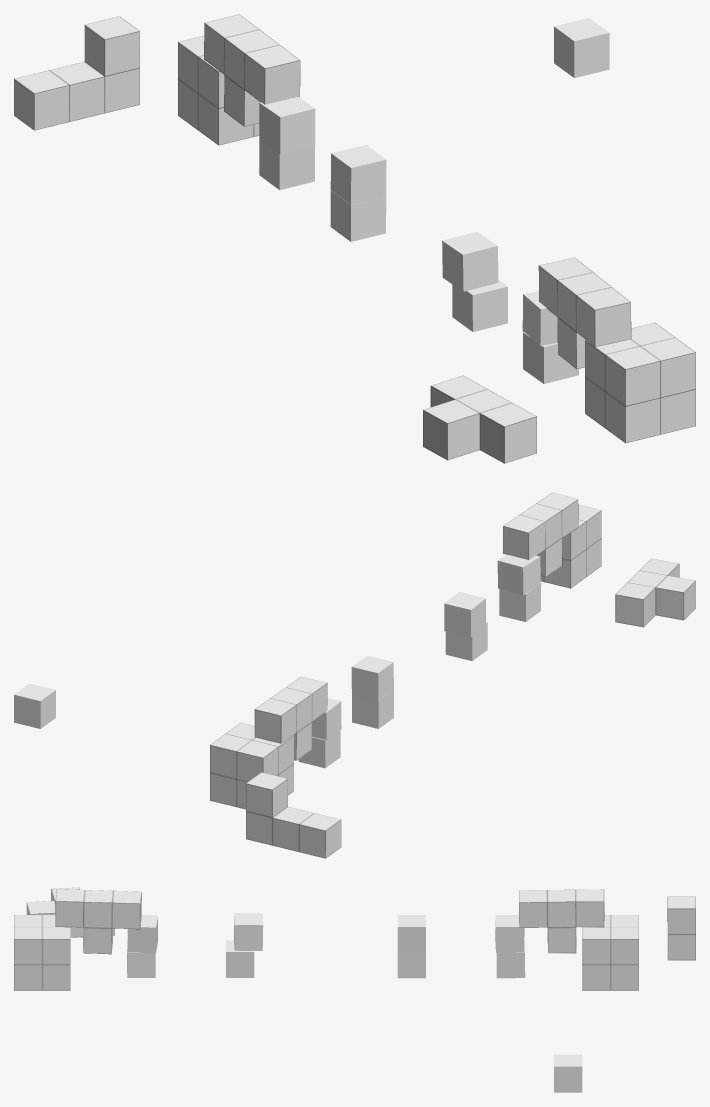
The picture shows the model from 3 angles, top to bottom: view 1: azimuth 30°, elevation 25°; view 2: azimuth 150°, elevation 25°; view 3: azimuth 270°, elevation 25°; orthographic projection. The views are drawn at different scales.
Visible parts, largest first — view 1: Plane/BasicEnvironment/StartCube-1, GridLShape_0, GridTShape_0:2, GridTShape_0:1, GridTShape_0, Plane/BasicEnvironment/StartCube-2, GridSmallCube_0:5, GridSmallCube_0:8, GridSmallCube_0:7, GridSmallCube_0:4, GridSmallCube_0:3, GridSmallCube_0:6 (+3 smaller); view 2: GridLShape_0, Plane/BasicEnvironment/StartCube-2, GridTShape_0:2, GridTShape_0, GridTShape_0:1, Plane/BasicEnvironment/StartCube-1, GridSmallCube_0:8, GridSmallCube_0:5, GridSmallCube_0:7, GridSmallCube_0:1, GridSmallCube_0:6, GridSmallCube_0 (+3 smaller); view 3: Plane/BasicEnvironment/StartCube-1, GridTShape_0, GridTShape_0:1, Plane/BasicEnvironment/StartCube-2, GridLShape_0, GridSmallCube_0:7, GridSmallCube_0:5, GridSmallCube_0:8, GridSmallCube_0:4, GridSmallCube_0:1, GridSmallCube_0:3, GridSmallCube_0:2 (+3 smaller).
Part boxes in pixels (bbox=[...]): Plane/BasicEnvironment/StartCube-1: bbox=[585, 322, 695, 443]; GridLShape_0: bbox=[14, 16, 139, 130]; GridTShape_0:2: bbox=[423, 375, 536, 463]; GridTShape_0:1: bbox=[204, 14, 300, 126]; GridTShape_0: bbox=[538, 257, 631, 368]; Plane/BasicEnvironment/StartCube-2: bbox=[178, 35, 259, 145]; GridSmallCube_0:5: bbox=[442, 231, 498, 291]; GridSmallCube_0:8: bbox=[330, 145, 386, 204]; GridSmallCube_0:7: bbox=[554, 18, 609, 77]; GridSmallCube_0:4: bbox=[259, 97, 315, 154]; GridSmallCube_0:3: bbox=[452, 280, 507, 331]; GridSmallCube_0:6: bbox=[330, 190, 386, 241]; GridLShape_0: bbox=[246, 772, 341, 858]; Plane/BasicEnvironment/StartCube-2: bbox=[210, 722, 293, 809]; GridTShape_0:2: bbox=[615, 558, 695, 627]; GridTShape_0: bbox=[503, 492, 578, 576]; GridTShape_0:1: bbox=[254, 676, 327, 760]; Plane/BasicEnvironment/StartCube-1: bbox=[540, 505, 601, 588]; GridSmallCube_0:8: bbox=[351, 655, 393, 700]; GridSmallCube_0:5: bbox=[444, 591, 485, 637]; GridSmallCube_0:7: bbox=[14, 683, 55, 728]; GridSmallCube_0:1: bbox=[497, 554, 540, 595]; GridSmallCube_0:6: bbox=[352, 690, 393, 728]; GridSmallCube_0: bbox=[499, 583, 541, 621]; Plane/BasicEnvironment/StartCube-1: bbox=[14, 915, 70, 990]; GridTShape_0: bbox=[55, 889, 141, 954]; GridTShape_0:1: bbox=[519, 889, 604, 953]; Plane/BasicEnvironment/StartCube-2: bbox=[582, 915, 638, 990]; GridLShape_0: bbox=[667, 896, 695, 960]; GridSmallCube_0:7: bbox=[554, 1054, 582, 1092]; GridSmallCube_0:5: bbox=[234, 913, 263, 950]; GridSmallCube_0:8: bbox=[397, 915, 425, 952]; GridSmallCube_0:4: bbox=[495, 914, 524, 952]; GridSmallCube_0:1: bbox=[127, 915, 157, 953]; GridSmallCube_0:3: bbox=[226, 940, 254, 977]; GridSmallCube_0:2: bbox=[496, 940, 525, 978].
Size of the model in its own units: 1.49 by 0.3009 by 2.4.
